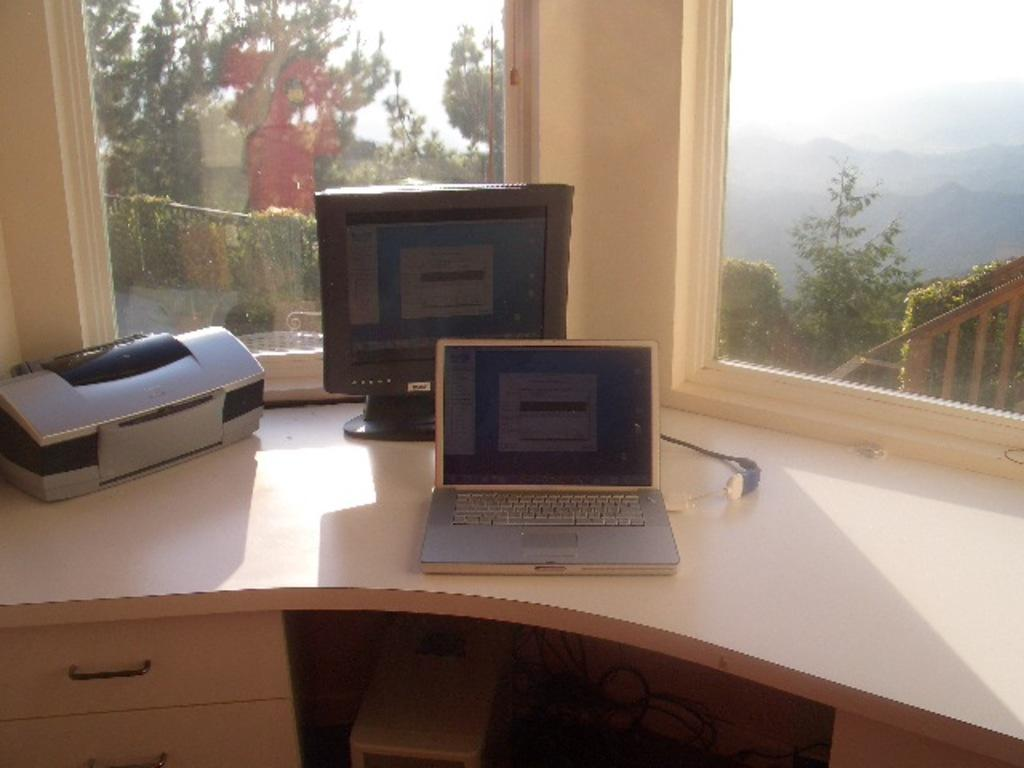Computer-keyboard: (451, 488, 648, 528)
Computer-monitor: (317, 198, 582, 406)
Laptop: (416, 325, 662, 589)
